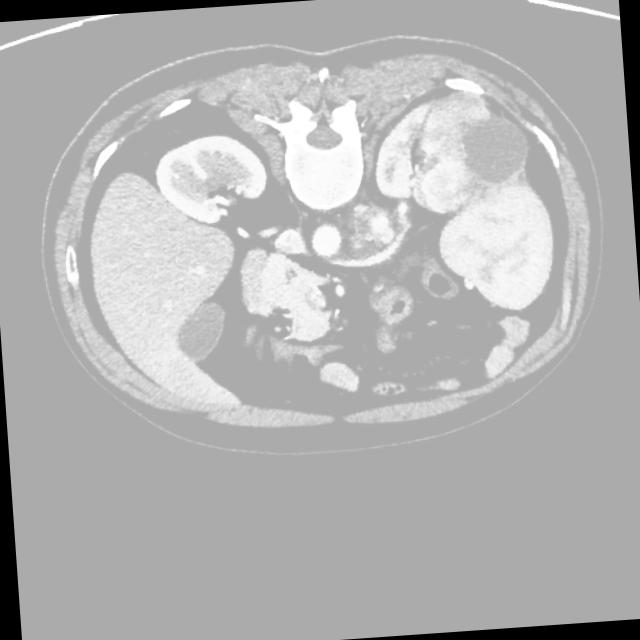TUMOR: (134, 95, 559, 404)
